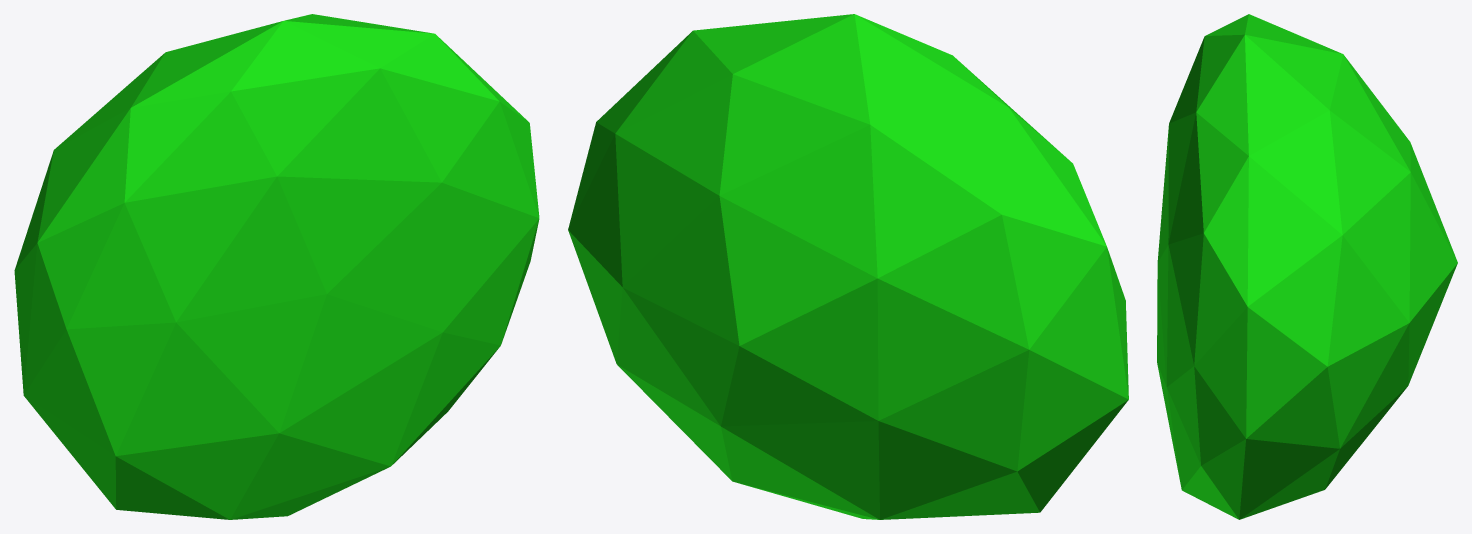
File: ENVI_bush_4.fbx
The picture shows the model from 3 angles, left to right: view 1: azimuth 30°, elevation 25°; view 2: azimuth 150°, elevation 25°; view 3: azimuth 270°, elevation 25°; orthographic projection. The views are drawn at different scales.
Visible parts, largest first — view 1: bush 4; view 2: bush 4; view 3: bush 4.
Part boxes in pixels (x1,y1,x2,y2): bush 4: (14,14,539,519); bush 4: (568,14,1128,519); bush 4: (1157,14,1457,519).
Bounding box in the file's own units: 178 × 163 × 94.97.
